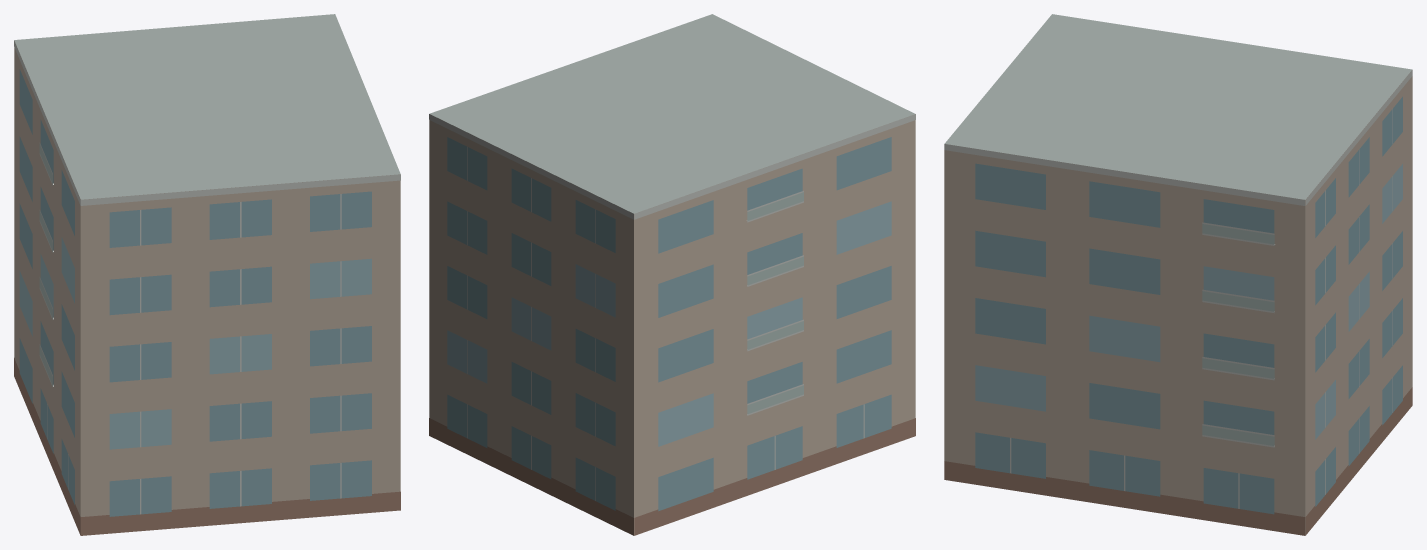
Rendered from survey-upis-32890818.glb.
3 views of the same model, side by side, from view 1: azimuth 30°, elevation 25°; view 2: azimuth 150°, elevation 25°; view 3: azimuth 270°, elevation 25° (orthographic). The views are drawn at different scales.
Parts seen in each view (by area): view 1: survey-upis-32890818.tmp; view 2: survey-upis-32890818.tmp; view 3: survey-upis-32890818.tmp.
Boxes of the visible parts, left/top/right/bottom form: survey-upis-32890818.tmp: left=14, top=14, right=400, bottom=535; survey-upis-32890818.tmp: left=429, top=14, right=915, bottom=535; survey-upis-32890818.tmp: left=944, top=14, right=1412, bottom=535.
Bounding box in the file's own units: 15.56 × 13.1 × 16.55.
